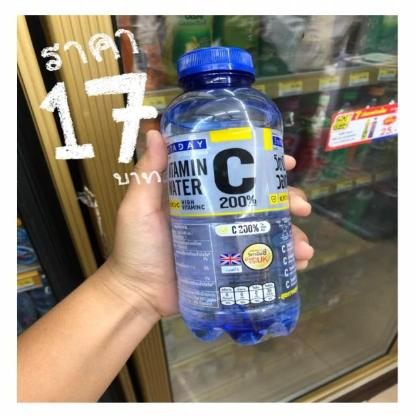Plastic Bottle: (162, 47, 300, 345)
